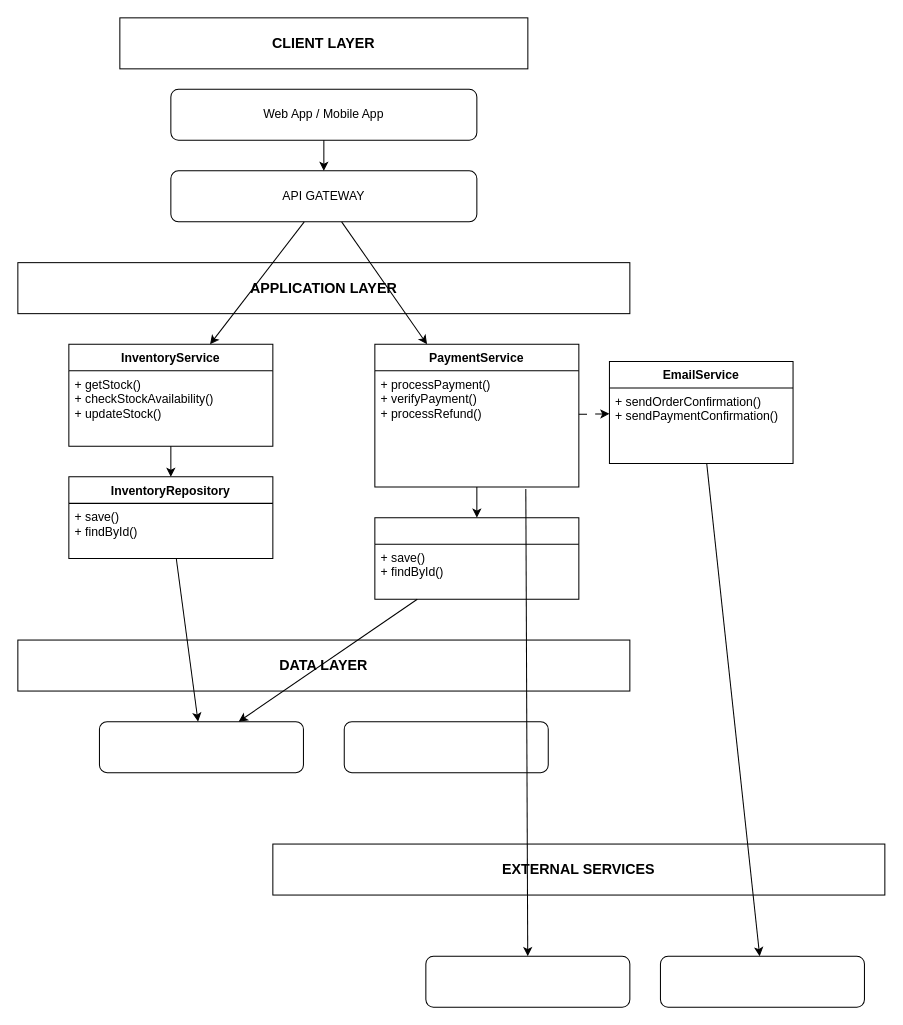
This 903x1025 diagram has some shape labels left out. The shapes that lost their labels are listed below. From the top down, each one's box as (x1, y1, x2, y2) in pixels, then its label:
(374, 517, 579, 599): PaymentRepository
(98, 721, 303, 773): PostgreSQL
(343, 721, 548, 773): Redis Cache
(425, 955, 630, 1007): VNPay Gateway
(659, 955, 864, 1007): SMTP Email Service
